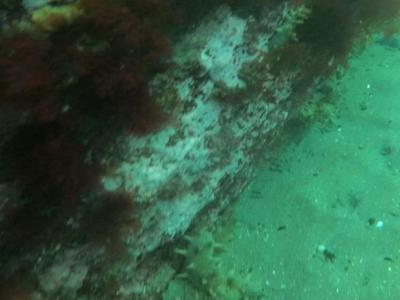holothurian: (172, 224, 255, 293)
